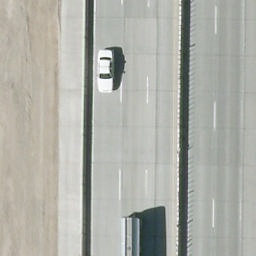car: (98, 49, 115, 95)
